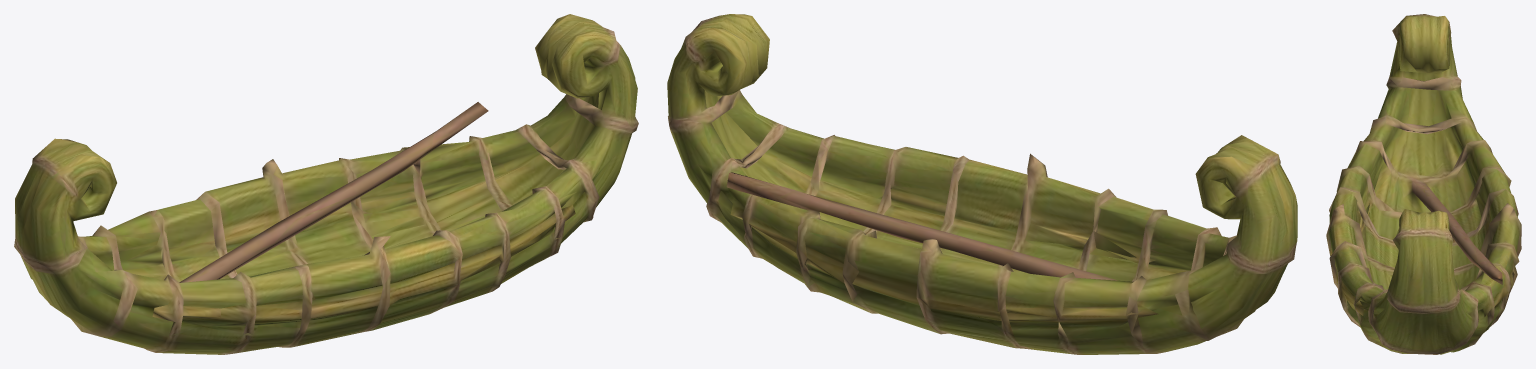
Rendered from reed_boat.glb.
The picture shows the model from 3 angles, left to right: view 1: azimuth 30°, elevation 25°; view 2: azimuth 150°, elevation 25°; view 3: azimuth 270°, elevation 25°; orthographic projection. The views are drawn at different scales.
Parts seen in each view (by area): view 1: tripo_node_499702f9-58b1-4053-80a1-e5530b800d6c; view 2: tripo_node_499702f9-58b1-4053-80a1-e5530b800d6c; view 3: tripo_node_499702f9-58b1-4053-80a1-e5530b800d6c.
Part boxes in pixels (left/top/right/bottom): tripo_node_499702f9-58b1-4053-80a1-e5530b800d6c: left=14, top=14, right=638, bottom=354; tripo_node_499702f9-58b1-4053-80a1-e5530b800d6c: left=667, top=14, right=1297, bottom=354; tripo_node_499702f9-58b1-4053-80a1-e5530b800d6c: left=1326, top=14, right=1521, bottom=354.
Size of the model in its own units: 0.9835 by 0.3602 by 0.3486.
1 material, 1 textured.
